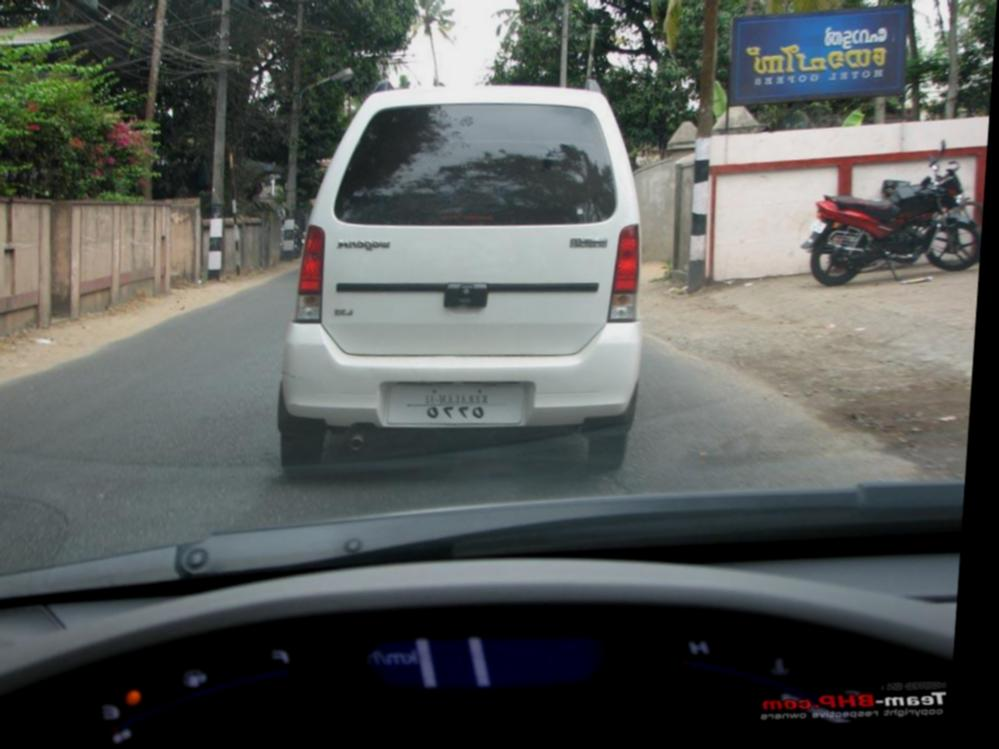License_Plate: (375, 367, 537, 434)
